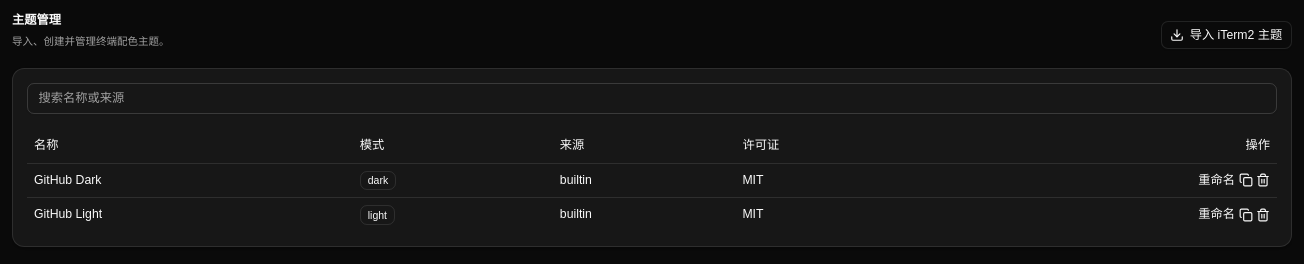
ThemeManager › filters themes and exposes a single delete action
Type "Light" into the field named "搜索终端主题" at (652, 98), box 27,83 -> 1277,114
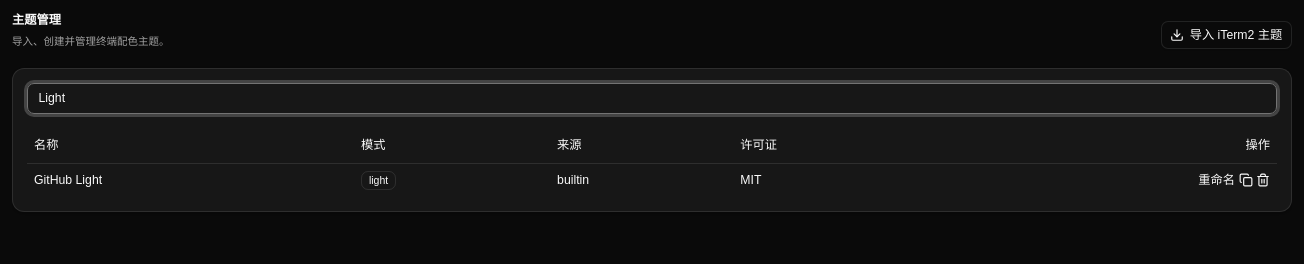
Check: the text "GitHub Light" is shown, box 27,163 -> 354,197
Check: the text "GitHub Dark" is gone
